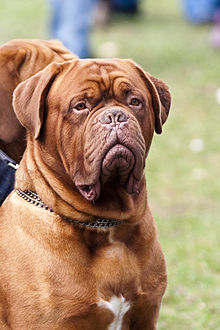dogue_de_bordeaux: (0, 58, 171, 330), (0, 36, 78, 209)
